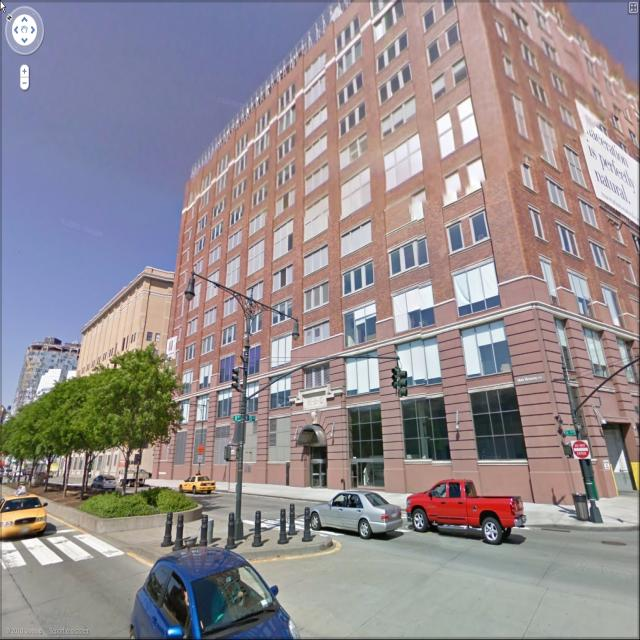b_1: (176, 20, 632, 501), (76, 260, 190, 385), (12, 315, 92, 398)
